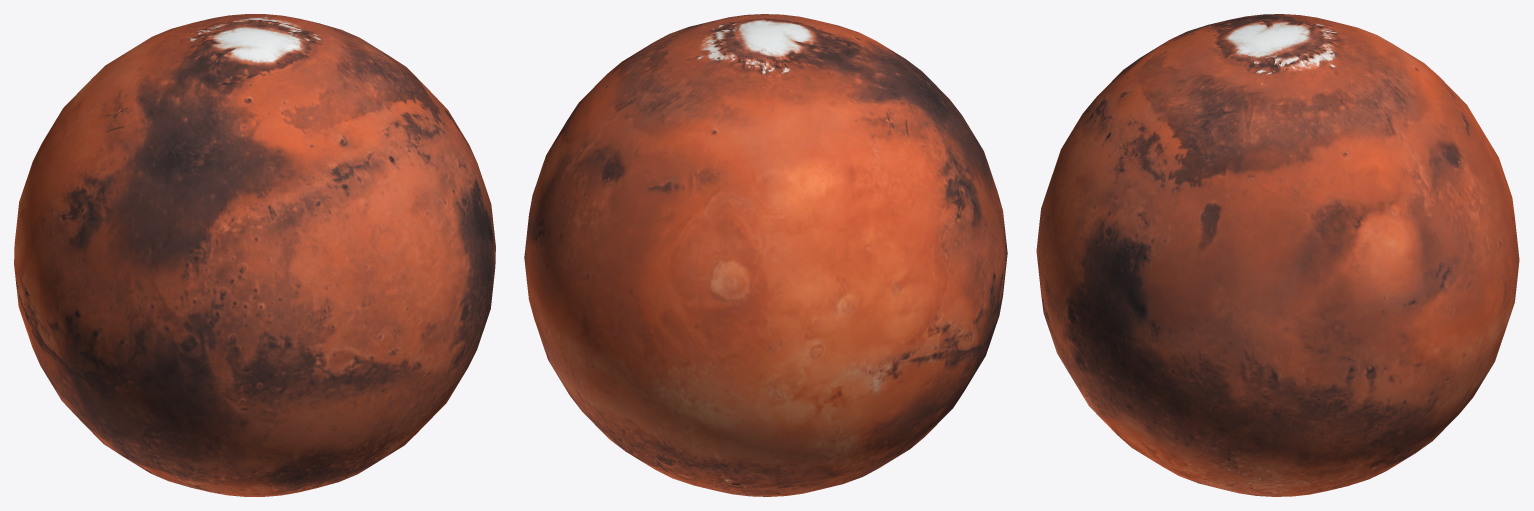
File: marte.glb
The picture shows the model from 3 angles, left to right: view 1: azimuth 30°, elevation 25°; view 2: azimuth 150°, elevation 25°; view 3: azimuth 270°, elevation 25°; orthographic projection.
Parts seen in each view (by area): view 1: marte.001; view 2: marte.001; view 3: marte.001.
Part boxes in pixels (left/top/right/bottom): marte.001: left=14, top=14, right=495, bottom=496; marte.001: left=524, top=14, right=1007, bottom=496; marte.001: left=1036, top=14, right=1519, bottom=496.
Size of the model in its own units: 0.4635 by 0.4639 by 0.4635.
1 material, 1 textured.
